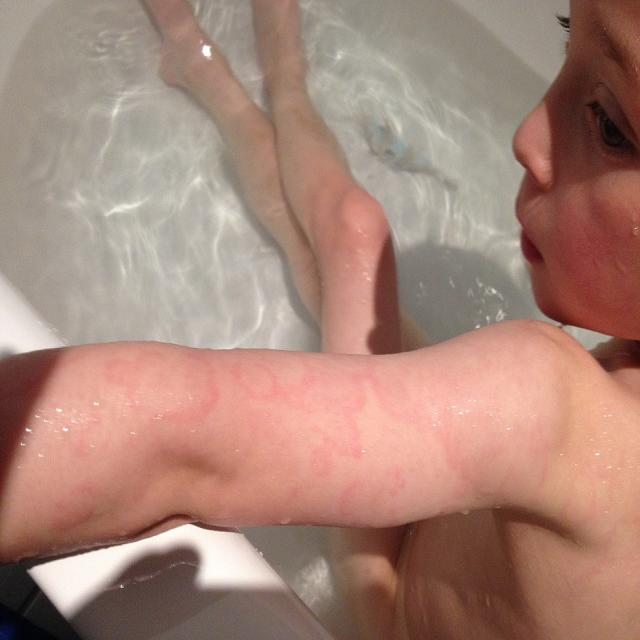Erythema marginatum: (92, 358, 388, 503)
